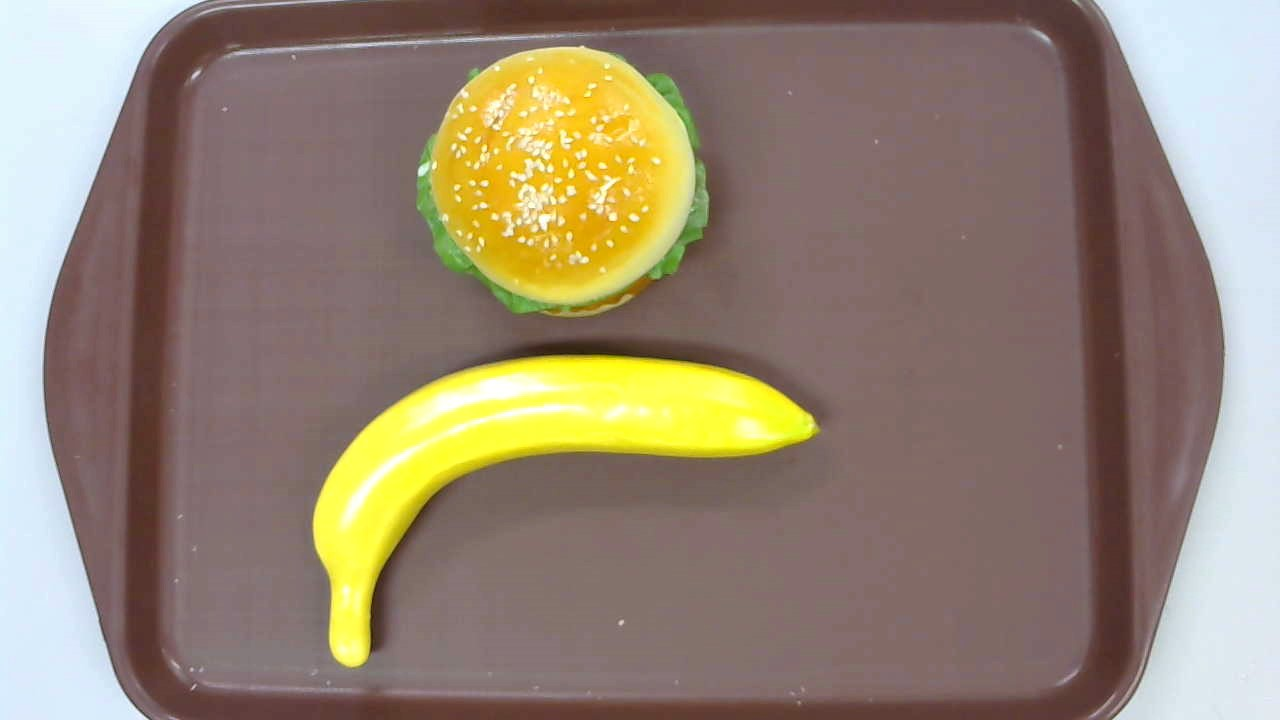banana: (311, 353, 821, 668)
hamburger: (416, 47, 710, 322)
